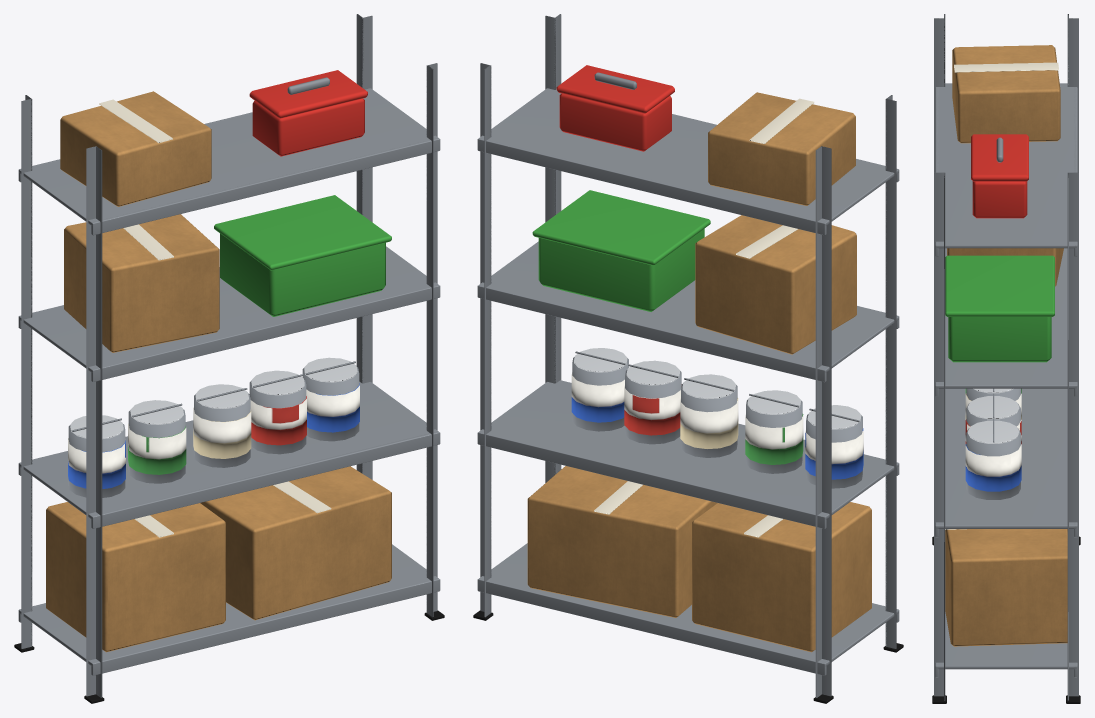
File: garage_shelf.glb
The picture shows the model from 3 angles, left to right: view 1: azimuth 30°, elevation 25°; view 2: azimuth 150°, elevation 25°; view 3: azimuth 270°, elevation 25°; orthographic projection. The views are drawn at different scales.
Visible parts, largest first — view 1: model; view 2: model; view 3: model.
Boxes of the visible parts, x1,y1,x2,y2 form: model: [14, 14, 444, 703]; model: [473, 14, 903, 703]; model: [932, 14, 1080, 703].
Size of the model in its own units: 1.21 by 1.8 by 0.46.
Materials: 11 (5 with a texture image).
